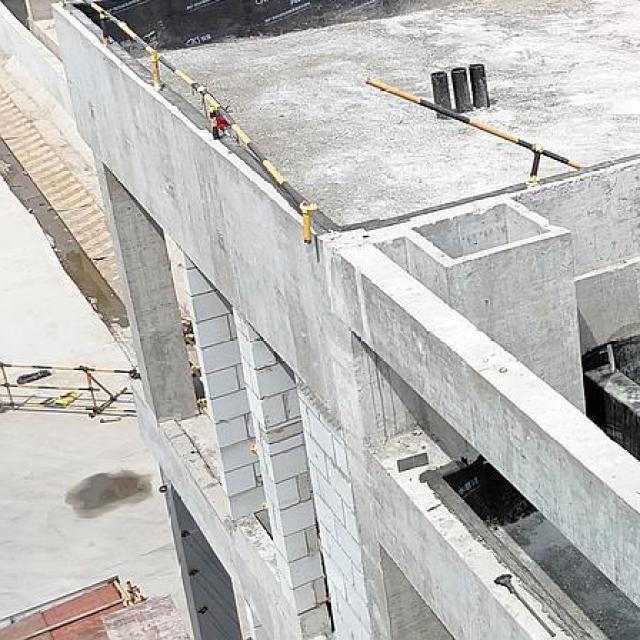edge_guardrail: (82, 0, 312, 246), (367, 76, 582, 183), (185, 336, 211, 419)
